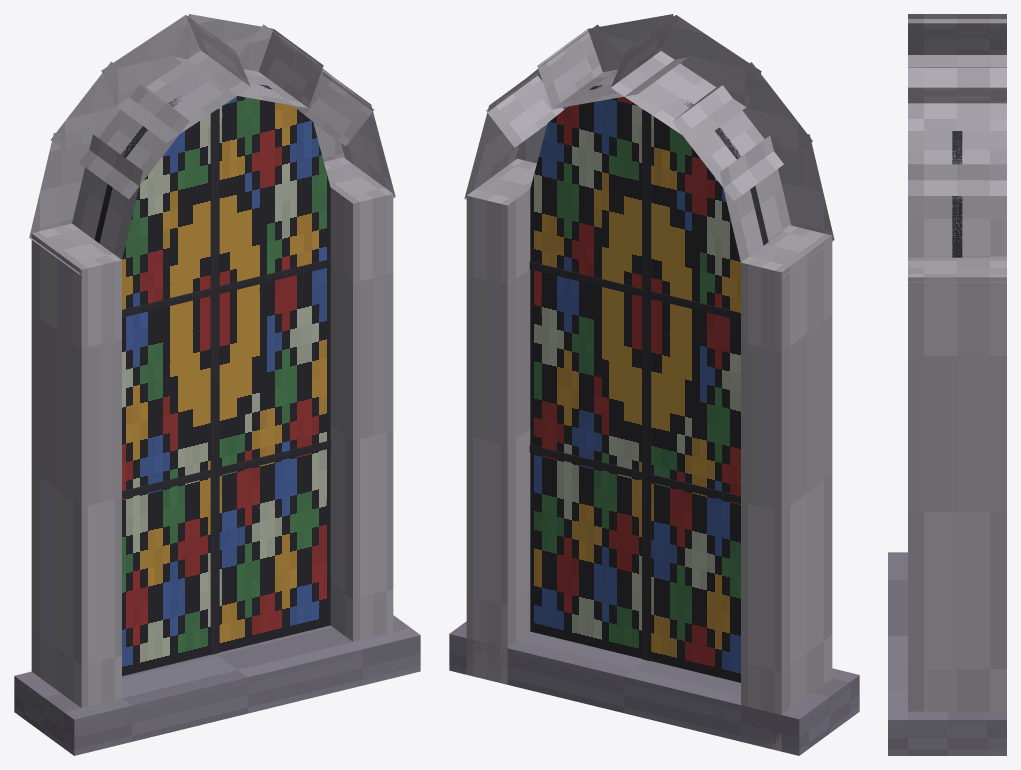
Rendered from stained-glass-window.glb.
3 renders of one model, left to right at view 1: azimuth 30°, elevation 25°; view 2: azimuth 150°, elevation 25°; view 3: azimuth 270°, elevation 25°, orthographic.
Parts seen in each view (by area): view 1: stained-glass-window.001; view 2: stained-glass-window.001; view 3: stained-glass-window.001.
Boxes of the visible parts, left/top/right/bottom form: stained-glass-window.001: left=14, top=14, right=420, bottom=755; stained-glass-window.001: left=449, top=14, right=859, bottom=755; stained-glass-window.001: left=888, top=14, right=1006, bottom=755.
Bounding box in the file's own units: 1.2 × 2.17 × 0.36.
1 material, 1 textured.
